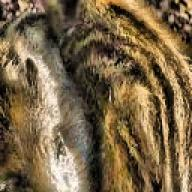boar: (48, 0, 192, 192), (0, 9, 94, 192)
